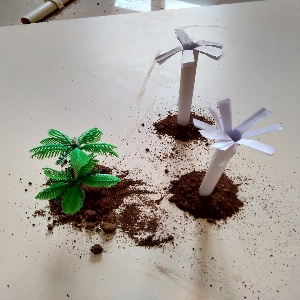plant: (21, 121, 126, 222)
weed: (187, 92, 274, 204), (152, 17, 209, 145)
